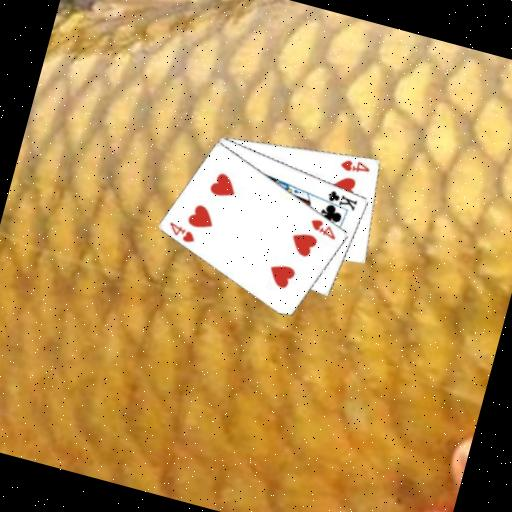4H: (304, 214, 341, 242), (163, 217, 200, 245), (336, 153, 373, 178)
KC: (318, 184, 361, 215)
